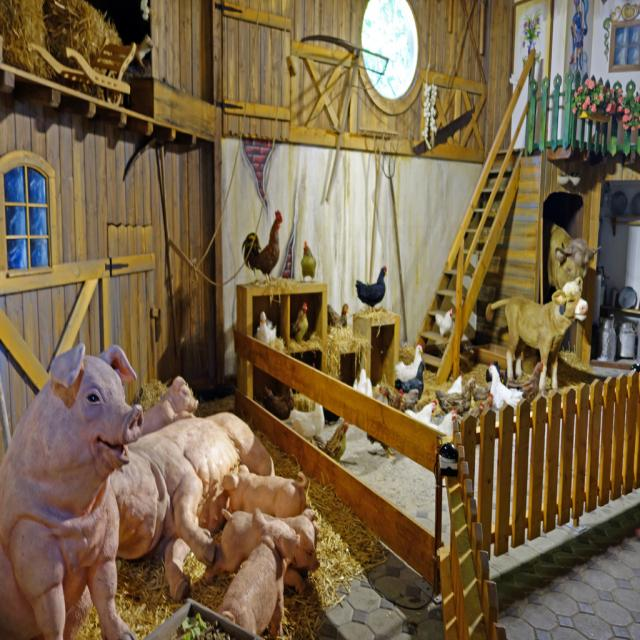Pig: (0, 344, 324, 639)
